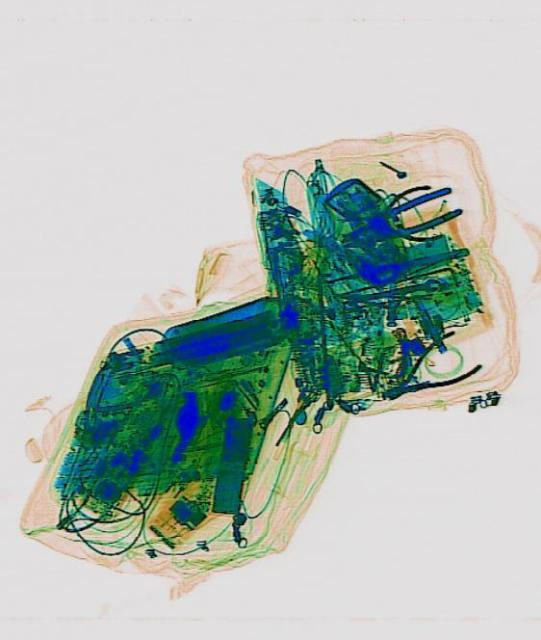Pliers: (373, 320, 482, 418), (335, 180, 464, 258), (334, 183, 438, 249)
Wrench: (344, 274, 439, 306)
